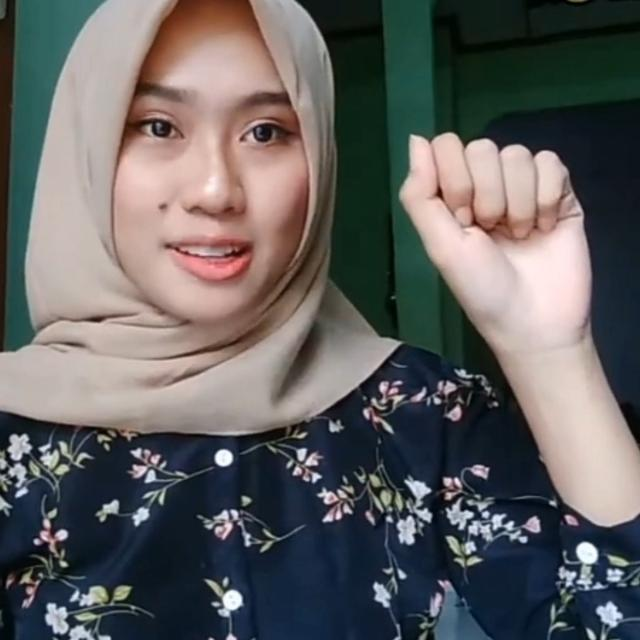A: (393, 128, 607, 338)
